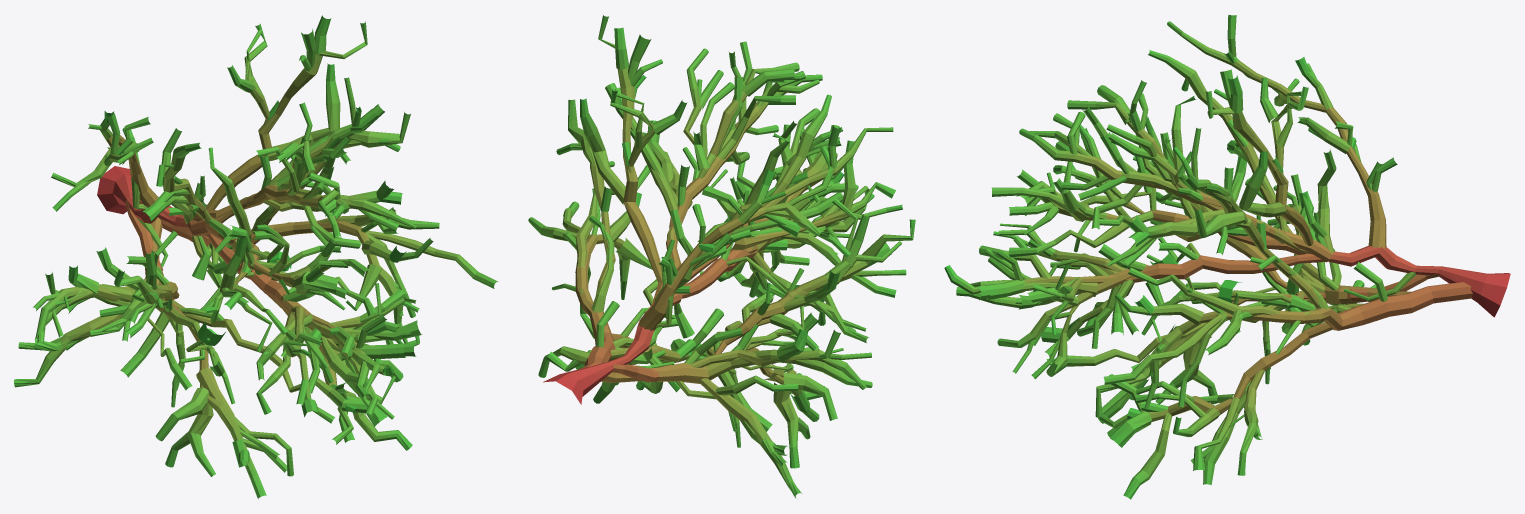
The model's file is Leaf-off-aerial-Stocky_Chestnut_Reconstruction.glb.
3 views of the same model, side by side, from view 1: azimuth 30°, elevation 25°; view 2: azimuth 150°, elevation 25°; view 3: azimuth 270°, elevation 25° (orthographic).
Visible parts, largest first — view 1: model; view 2: model; view 3: model.
Part boxes in pixels (box(x1,y1,x2,y2)): model: box(14, 15, 498, 499); model: box(528, 15, 915, 497); model: box(944, 15, 1510, 499).
Bounding box in the file's own units: 9.72 × 9.86 × 12.27.
